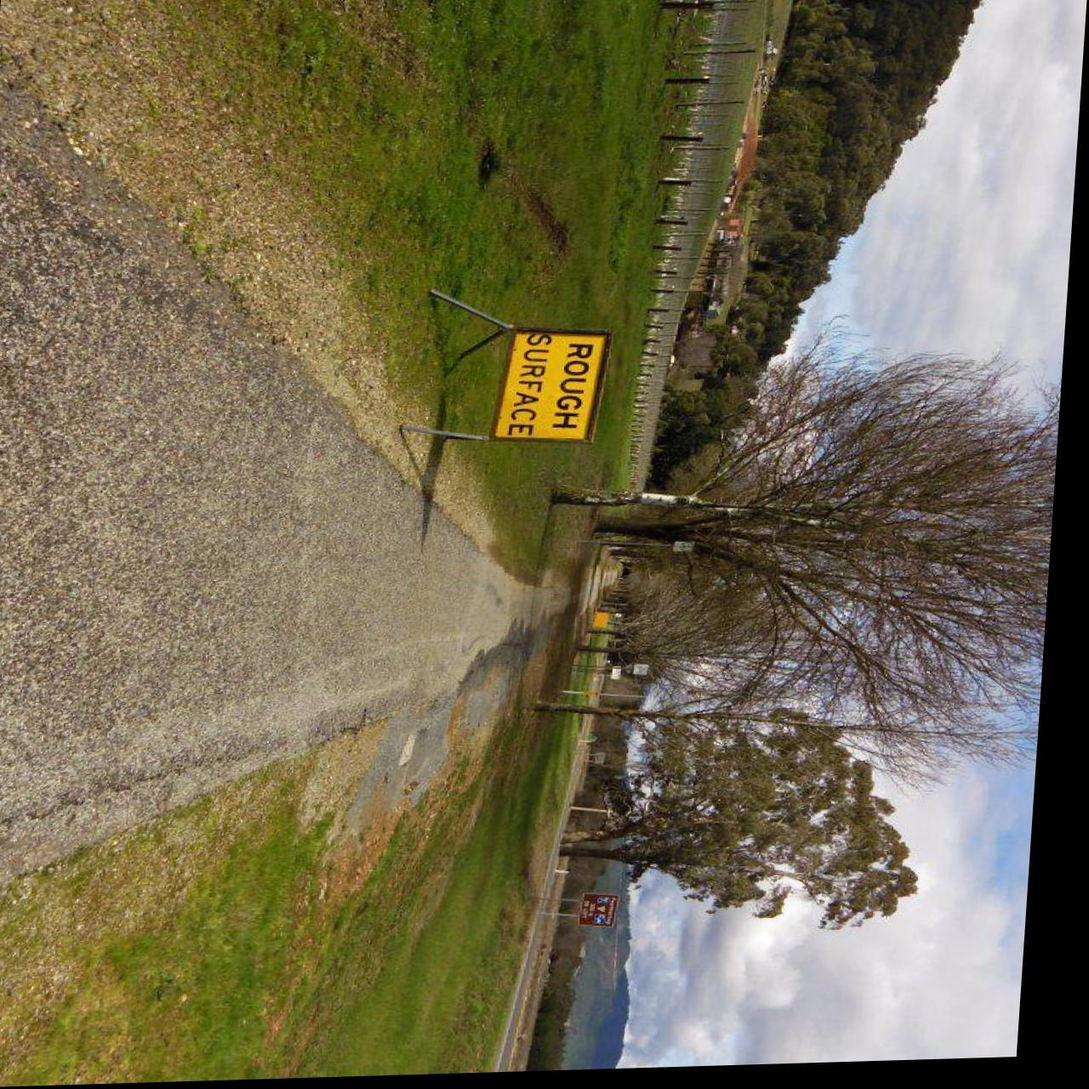no_entry_sign: (496, 328, 618, 449)
